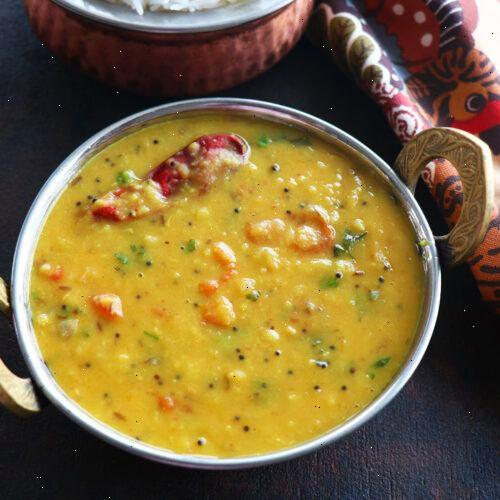daal: (40, 113, 440, 461)
